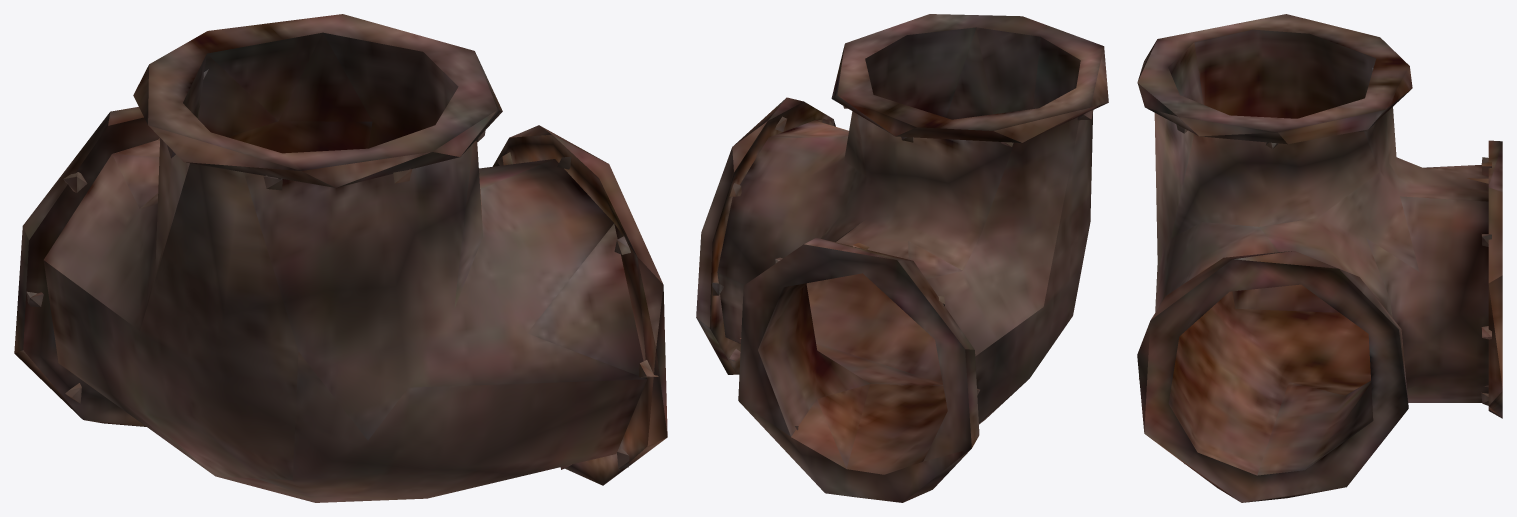
File: rusty_pipe_07.glb
3 renders of one model, left to right at view 1: azimuth 30°, elevation 25°; view 2: azimuth 150°, elevation 25°; view 3: azimuth 270°, elevation 25°, orthographic. The views are drawn at different scales.
Parts seen in each view (by area): view 1: rusty_pipe_07; view 2: rusty_pipe_07; view 3: rusty_pipe_07.
Boxes of the visible parts, left/top/right/bottom form: rusty_pipe_07: left=14, top=14, right=667, bottom=502; rusty_pipe_07: left=696, top=14, right=1108, bottom=502; rusty_pipe_07: left=1137, top=14, right=1502, bottom=502.
Size of what is drawn, in the model's own units: 0.0385 by 0.0383 by 0.0379.
1 material, 1 textured.
